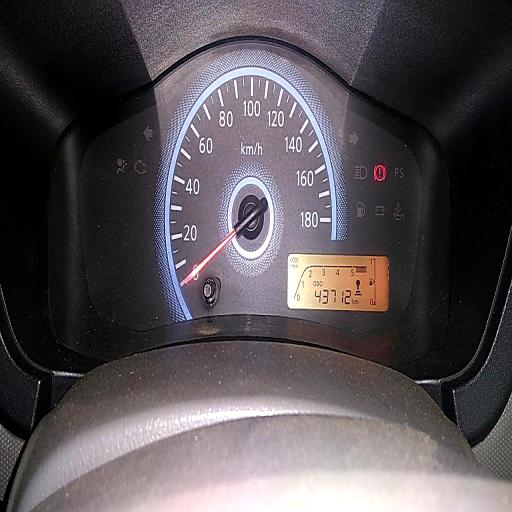brake_system_fault: (373, 163, 386, 182)
